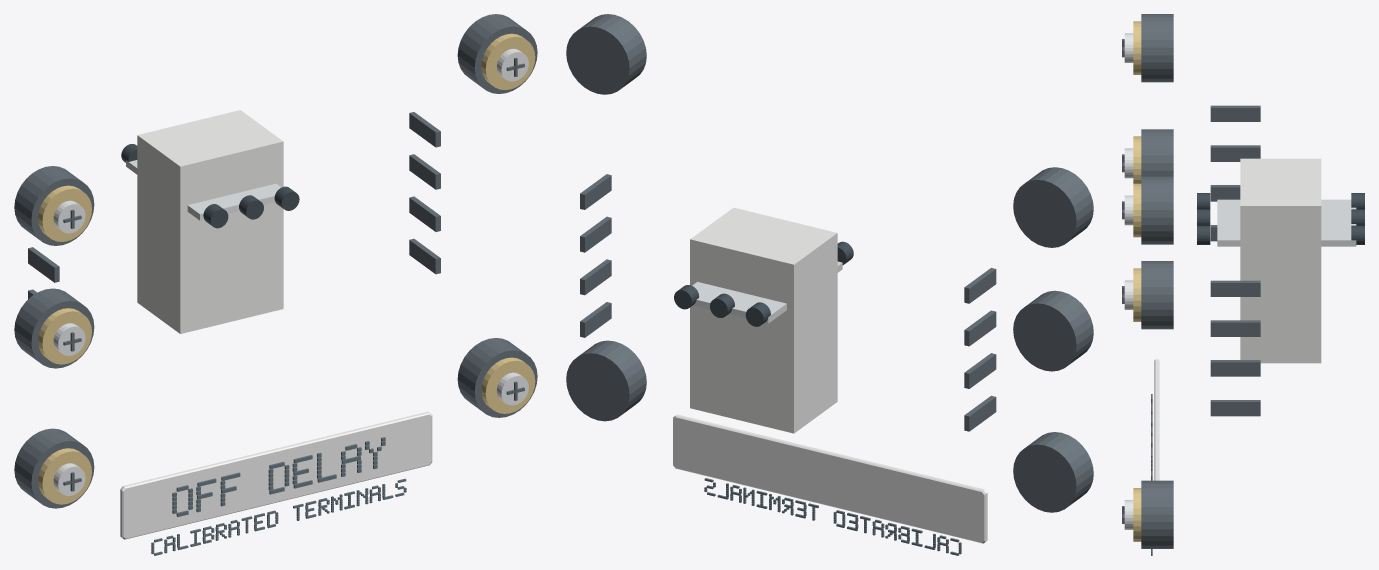
Rendered from timerOffDelay.glb.
The picture shows the model from 3 angles, left to right: view 1: azimuth 30°, elevation 25°; view 2: azimuth 150°, elevation 25°; view 3: azimuth 270°, elevation 25°; orthographic projection. The views are drawn at different scales.
Visible parts, largest first — view 1: timerOffDelay-detailed; view 2: timerOffDelay-detailed; view 3: timerOffDelay-detailed.
Boxes of the visible parts, x1,y1,x2,y2 form: timerOffDelay-detailed: [14, 14, 537, 555]; timerOffDelay-detailed: [566, 14, 1093, 555]; timerOffDelay-detailed: [1122, 14, 1364, 555].
Size of the model in its own units: 2.52 by 2.13 by 1.11.
